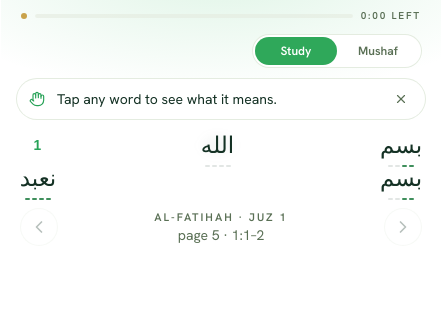
Scenario: Reader › the Mushaf-switch confirm can be cancelled, keeping the session and Study mode
Click the button "Mushaf": (378, 51) [337, 37, 419, 65]
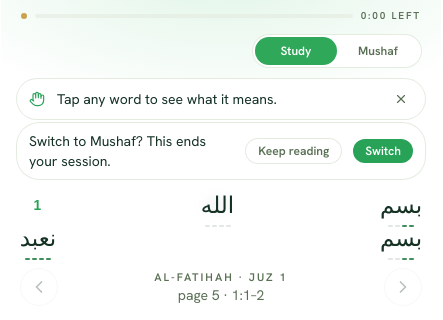
Click the button "Keep reading": (294, 151) [246, 139, 341, 163]
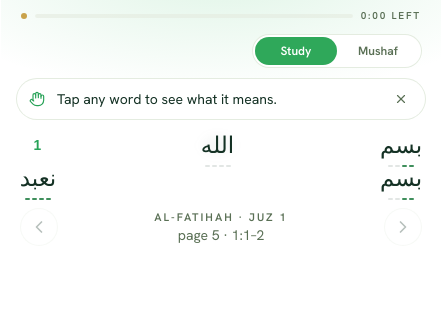
Result: the element with test id "mushaf-confirm" is gone
